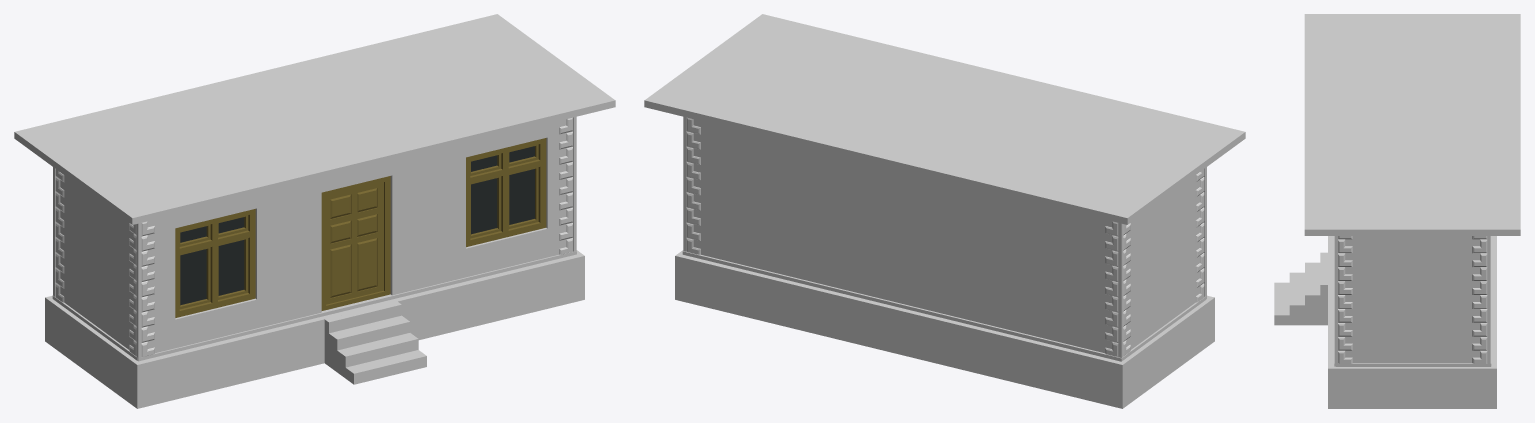
Rendered from house10.glb.
3 renders of one model, left to right at view 1: azimuth 30°, elevation 25°; view 2: azimuth 150°, elevation 25°; view 3: azimuth 270°, elevation 25°, orthographic. The views are drawn at different scales.
Parts seen in each view (by area): view 1: Plane.001_Plane.009, Cube.024_Cube, wall.002_Cube.003, wall.003_Cube.019, wall.001_Cube.035, Cube.020_Cube.036, Cube.031_Cube.034, Plane_Plane.016, Cube.025_Cube.028, Cube.022_Cube.026, wall_corner.001_Plane.001, wall_corner.006_Plane.006 (+7 smaller); view 2: Plane.001_Plane.009, wall.002_Cube.003, Cube.024_Cube, wall.003_Cube.019, wall.001_Cube.035, wall_corner.005_Plane.005, wall_corner.002_Plane.002, wall_corner_Plane, wall_corner.003_Plane.003, Cube.001, Cube.019_Cube.023, Cube.011_Cube.014 (+2 smaller); view 3: Plane.001_Plane.009, wall.001_Cube.035, Cube.024_Cube, Cube.025_Cube.028, wall_corner.004_Plane.004, wall_corner.007_Plane.007, Cube.012_Cube.015, Cube.002_Cube.005, Cube.003_Cube.006.
Boxes of the visible parts, x1,y1,x2,y2 form: Plane.001_Plane.009: [14, 14, 615, 224]; Cube.024_Cube: [45, 250, 584, 408]; wall.002_Cube.003: [60, 175, 284, 353]; wall.003_Cube.019: [284, 152, 429, 321]; wall.001_Cube.035: [429, 119, 572, 285]; Cube.020_Cube.036: [466, 138, 546, 247]; Cube.031_Cube.034: [175, 209, 255, 317]; Plane_Plane.016: [326, 182, 383, 304]; Cube.025_Cube.028: [324, 301, 426, 384]; Cube.022_Cube.026: [321, 176, 390, 310]; wall_corner.001_Plane.001: [141, 221, 154, 356]; wall_corner.006_Plane.006: [559, 117, 572, 254]; Plane.001_Plane.009: [644, 14, 1245, 224]; wall.002_Cube.003: [975, 175, 1199, 353]; Cube.024_Cube: [675, 250, 1214, 408]; wall.003_Cube.019: [830, 152, 975, 321]; wall.001_Cube.035: [687, 119, 830, 285]; wall_corner.005_Plane.005: [686, 117, 700, 254]; wall_corner.002_Plane.002: [1105, 221, 1118, 356]; wall_corner_Plane: [1195, 169, 1204, 302]; wall_corner.003_Plane.003: [1123, 223, 1130, 356]; Cube.001: [1118, 223, 1123, 357]; Cube.019_Cube.023: [829, 286, 976, 325]; Cube.011_Cube.014: [682, 251, 829, 290]; Plane.001_Plane.009: [1304, 14, 1520, 235]; wall.001_Cube.035: [1338, 236, 1486, 362]; Cube.024_Cube: [1328, 236, 1496, 408]; Cube.025_Cube.028: [1274, 252, 1327, 325]; wall_corner.004_Plane.004: [1472, 236, 1487, 363]; wall_corner.007_Plane.007: [1338, 236, 1352, 363]; Cube.012_Cube.015: [1336, 363, 1490, 366]; Cube.002_Cube.005: [1487, 236, 1490, 363]; Cube.003_Cube.006: [1334, 236, 1337, 363].
Bounding box in the file's own units: 6.65 × 2.69 × 3.21.
